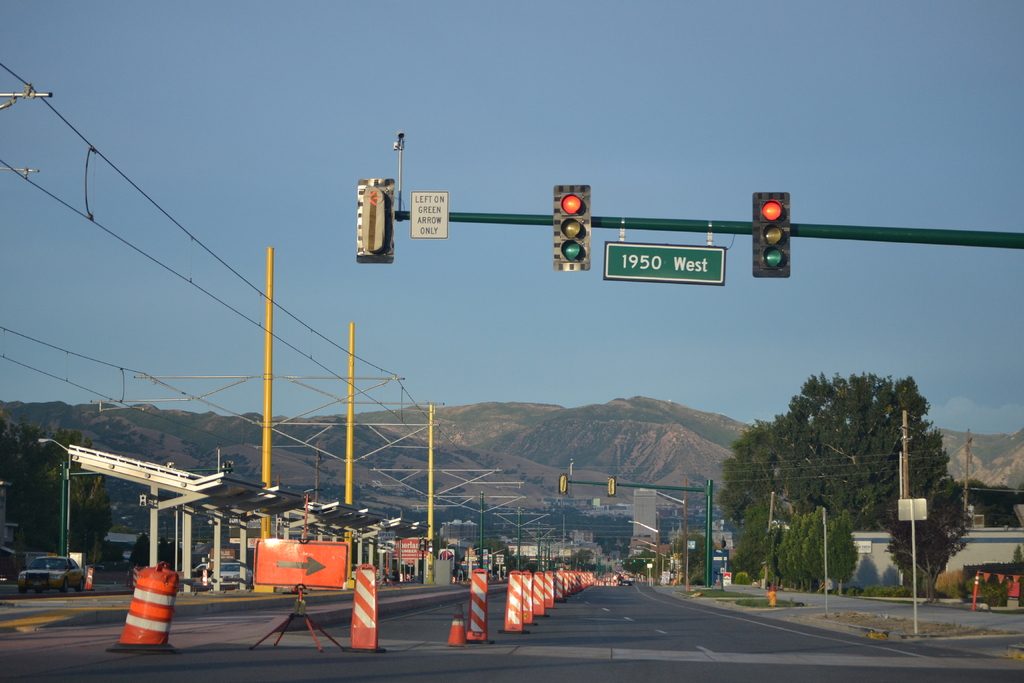red_light: (755, 194, 788, 270), (556, 191, 585, 267)
